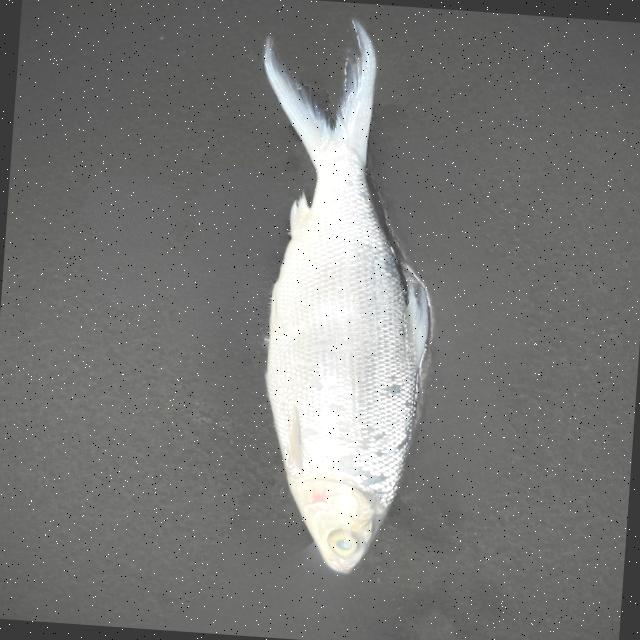495 g: (228, 12, 450, 577)
